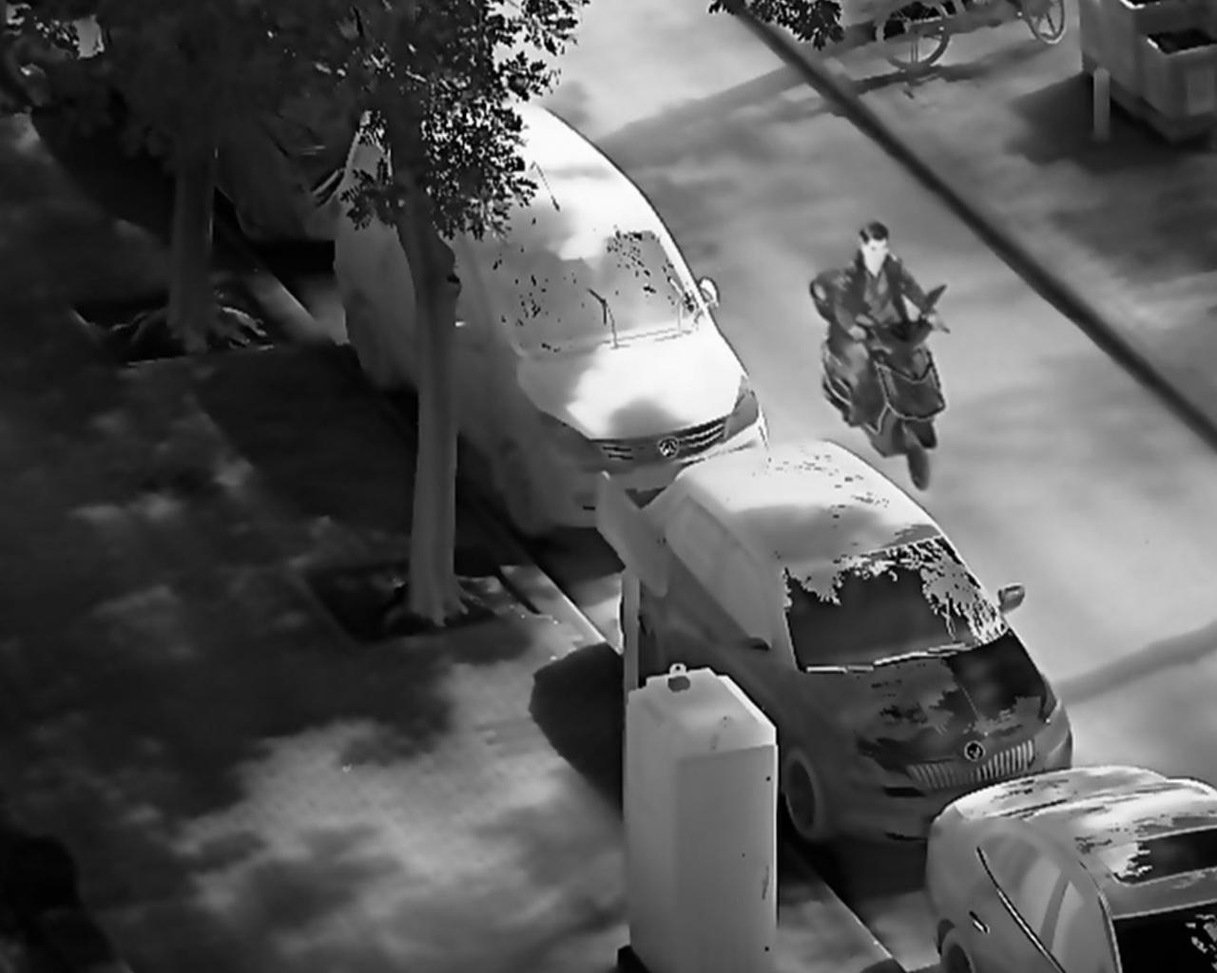person: (827, 217, 947, 428)
